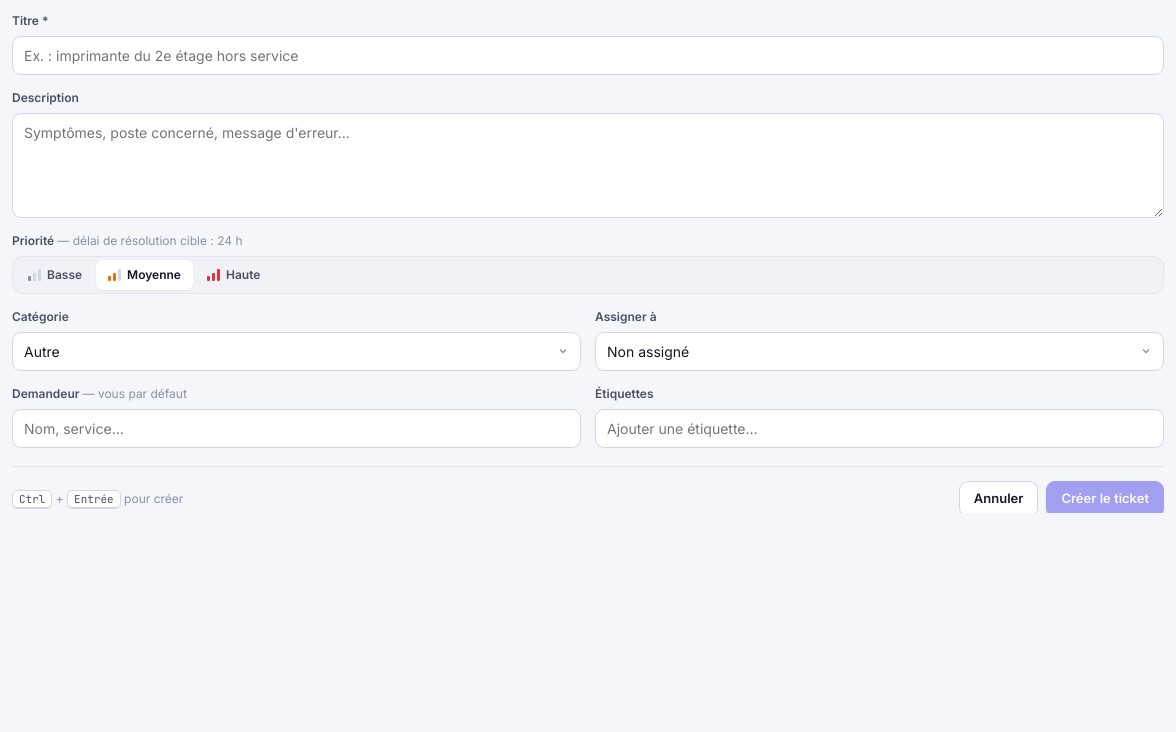
Scenario: NewTicketForm › CMP-03 affiche le délai SLA correspondant à la priorité choisie
Check: the text "— délai de résolution cible : 24 h" is shown, box [57,233,243,248]
Click the button "Haute" at (234, 275), box [195,260,272,290]
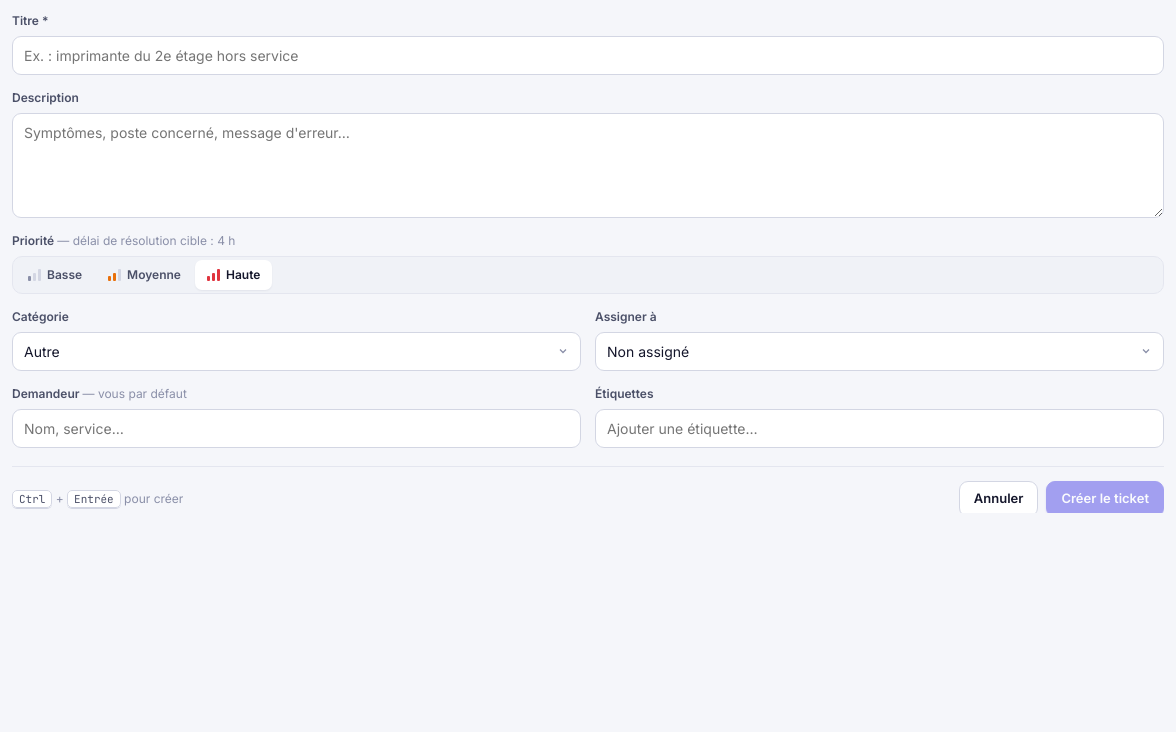
Check: the text "— délai de résolution cible : 4 h" is shown, box [57,233,236,248]
